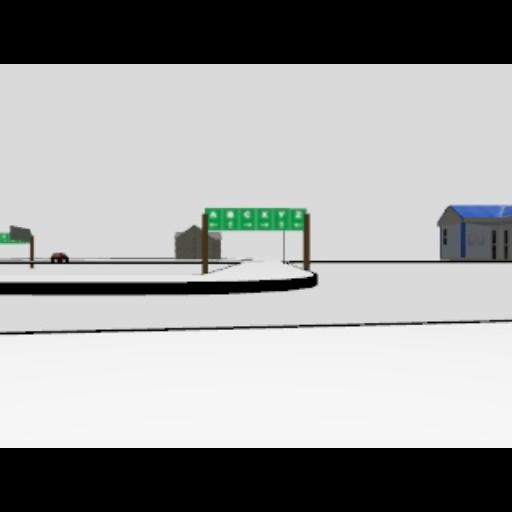A: (210, 211, 218, 219)
B: (227, 210, 235, 218)
C: (244, 210, 252, 218)
Left: (210, 222, 218, 228), (294, 222, 302, 228)
Right: (260, 221, 270, 227), (243, 222, 253, 228)
Straight: (227, 220, 233, 230), (279, 220, 285, 228)
X: (262, 210, 268, 218)
Y: (278, 211, 286, 219)
Z: (295, 210, 303, 220)
